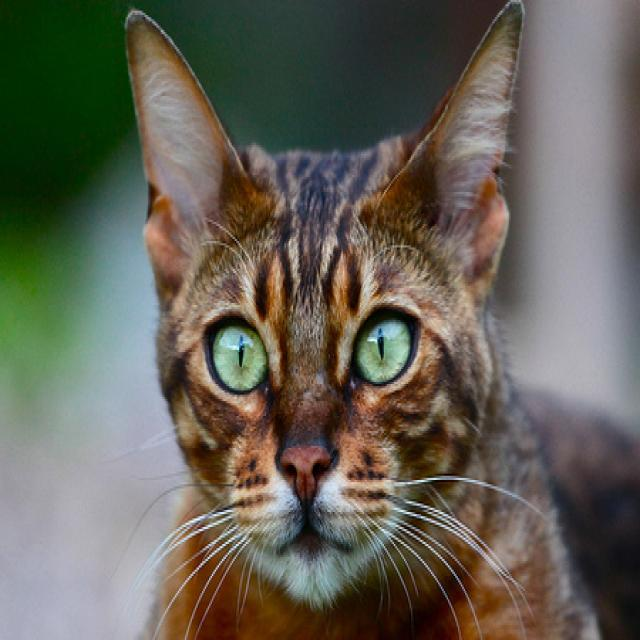Bengal: (112, 0, 618, 640)
